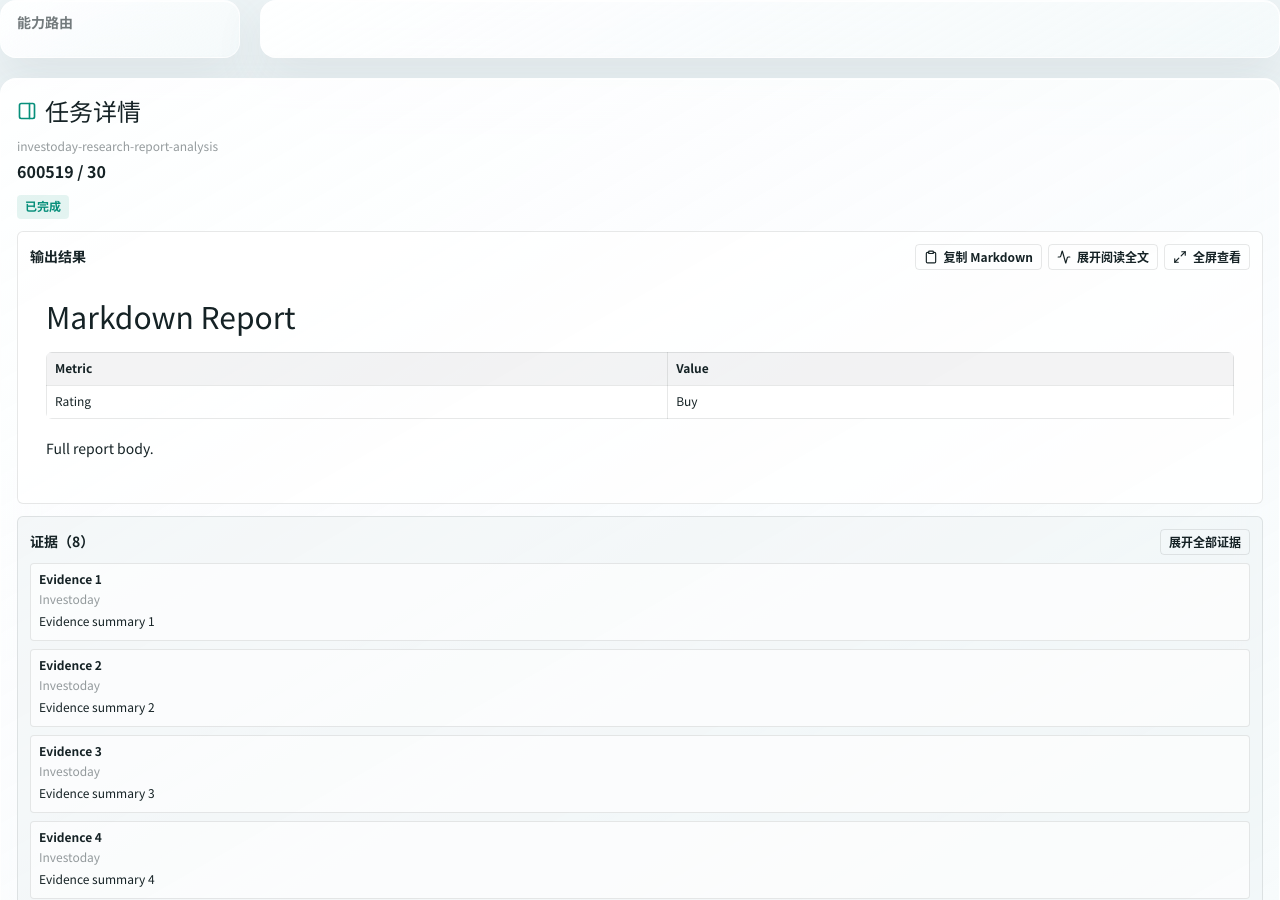
Test: AgentView result rendering › renders markdown output with expand, fullscreen, copy, evidence, and execution details
Expected: the heading "Markdown Report" is shown, [46,294,296,338]
Expected: the table is shown, [46,352,1234,418]
Click the button "复制 Markdown": [978, 257] box [915,244,1042,270]
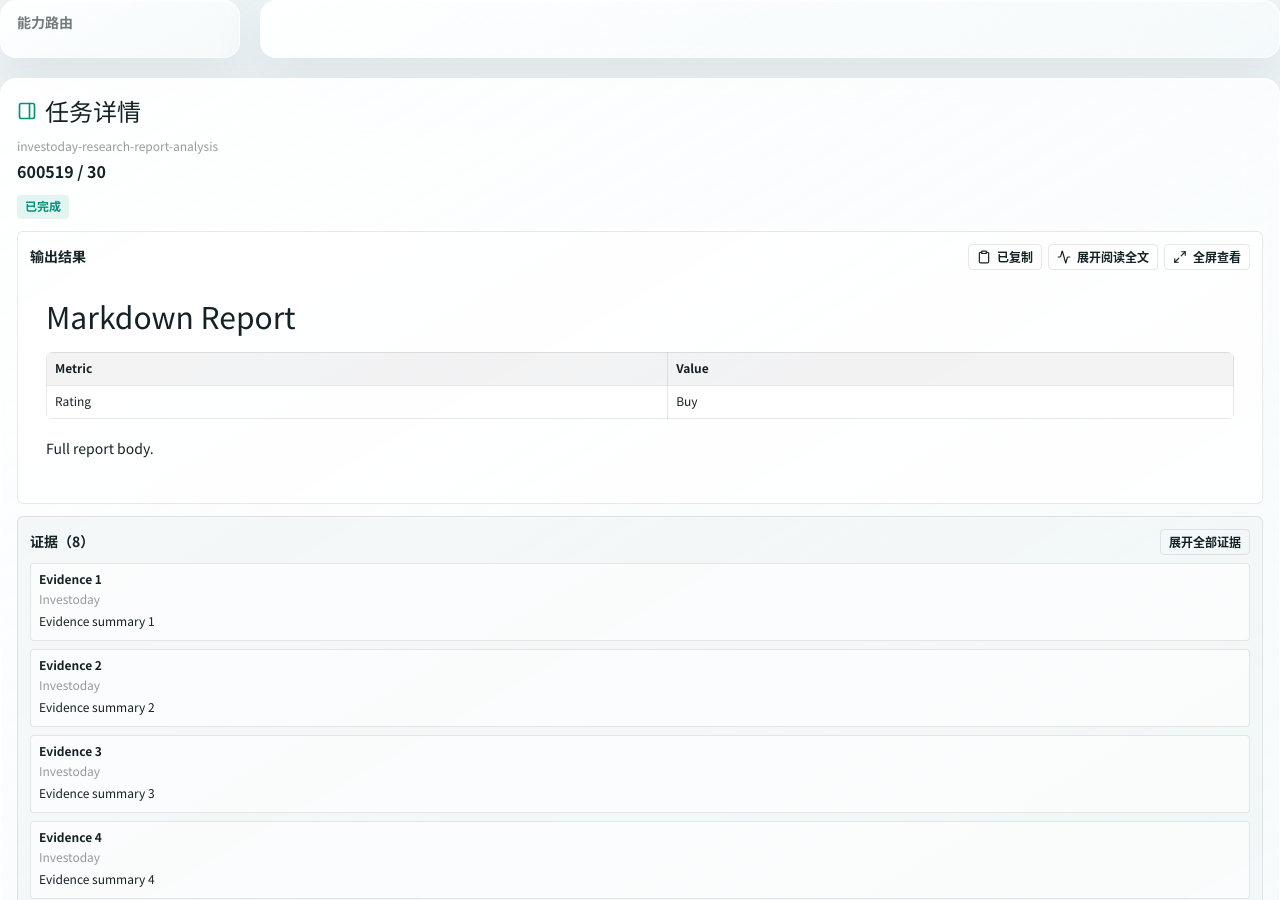
Expected: the heading "证据（8）" is shown, [30,532,94,552]
Click the button "展开全部证据": [1205, 542] box [1160,528,1250,554]
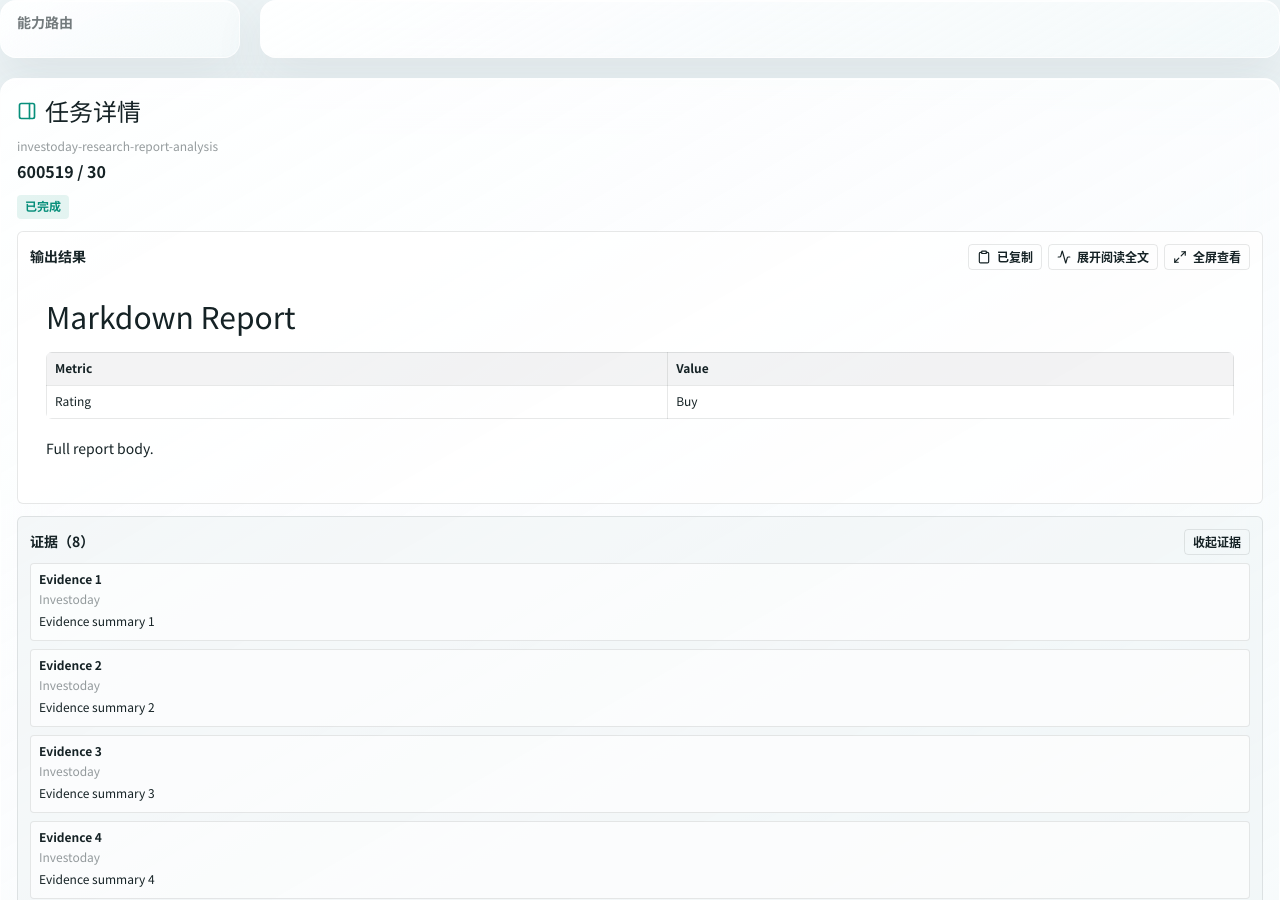
Click the button "全屏查看": [1207, 257] box [1164,244,1250,270]
(page scrolled)
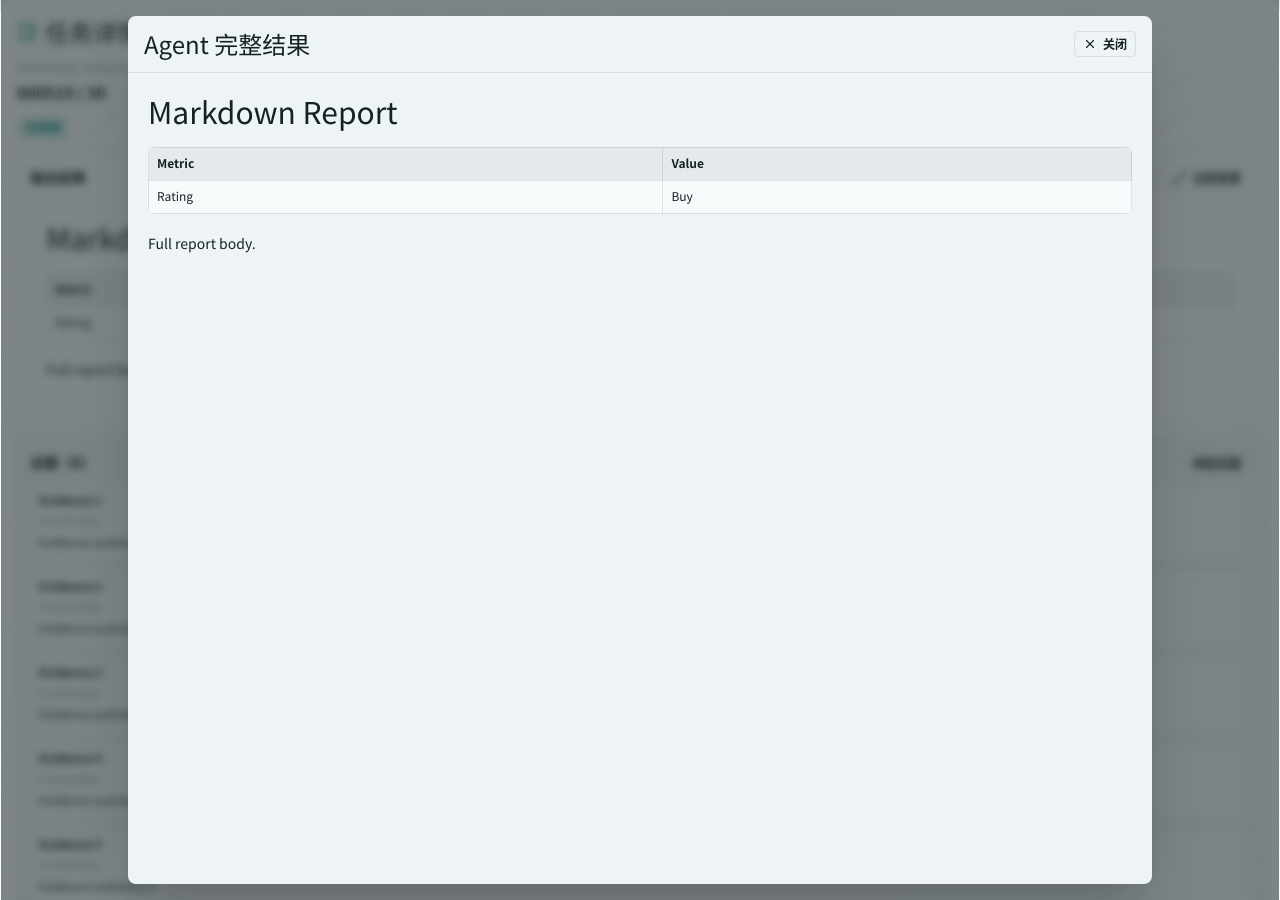
Expected: the dialog "Agent 完整结果" is shown
